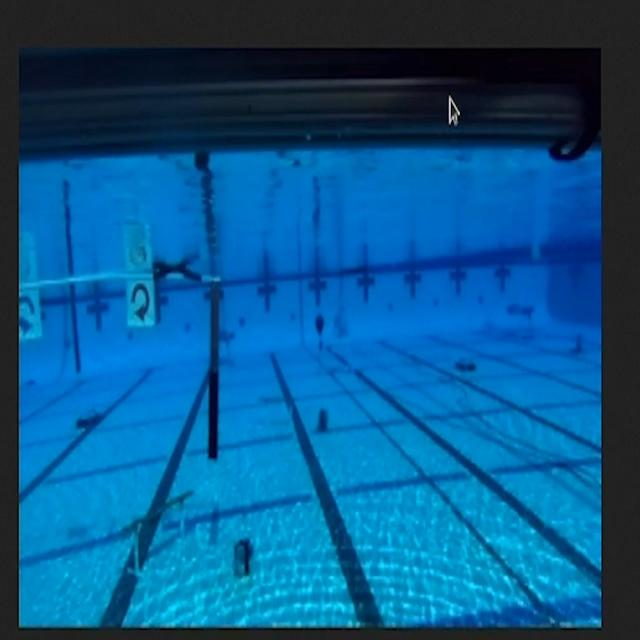Gate: (19, 252, 236, 486)
Path: (106, 484, 206, 592)
